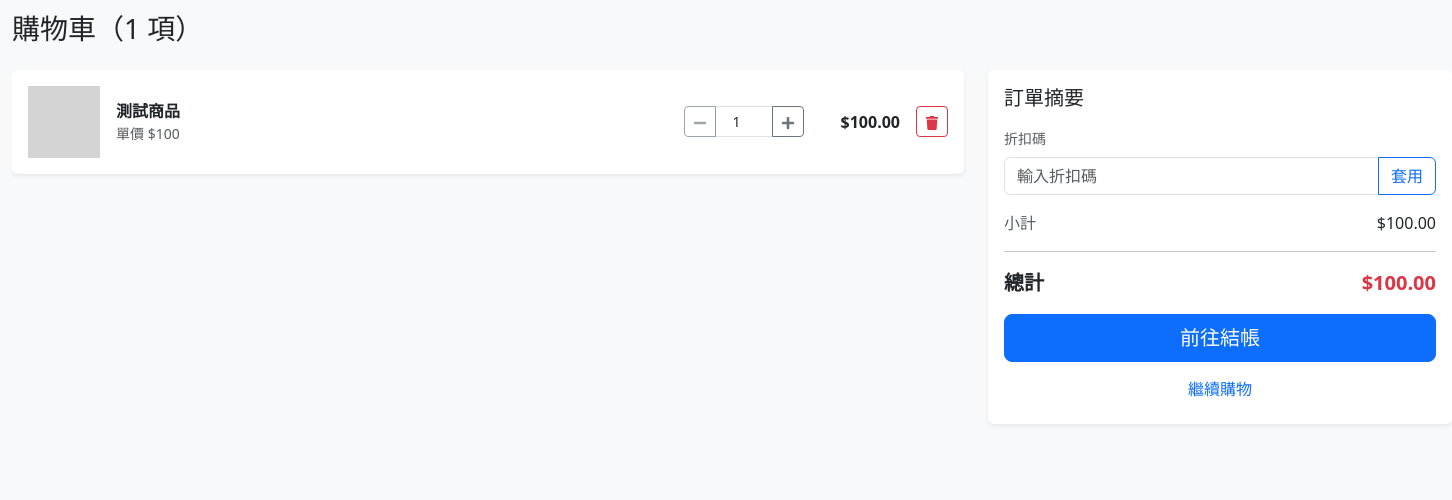
it: CartPage 整合測試 › 套用 WELCOME2026 → 顯示折扣金額
Type "WELCOME2026" into the field with placeholder "輸入折扣碼" at (1192, 176), box x1=1004 y1=157 x2=1379 y2=195
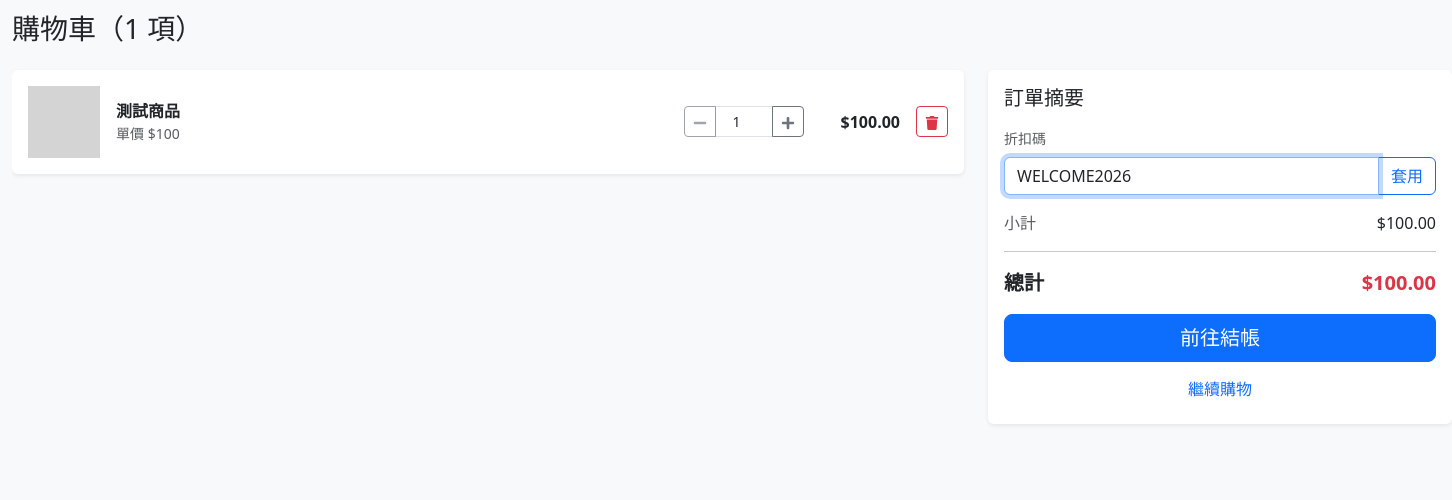
Click the button "套用" at (1407, 176), box x1=1378 y1=157 x2=1436 y2=195
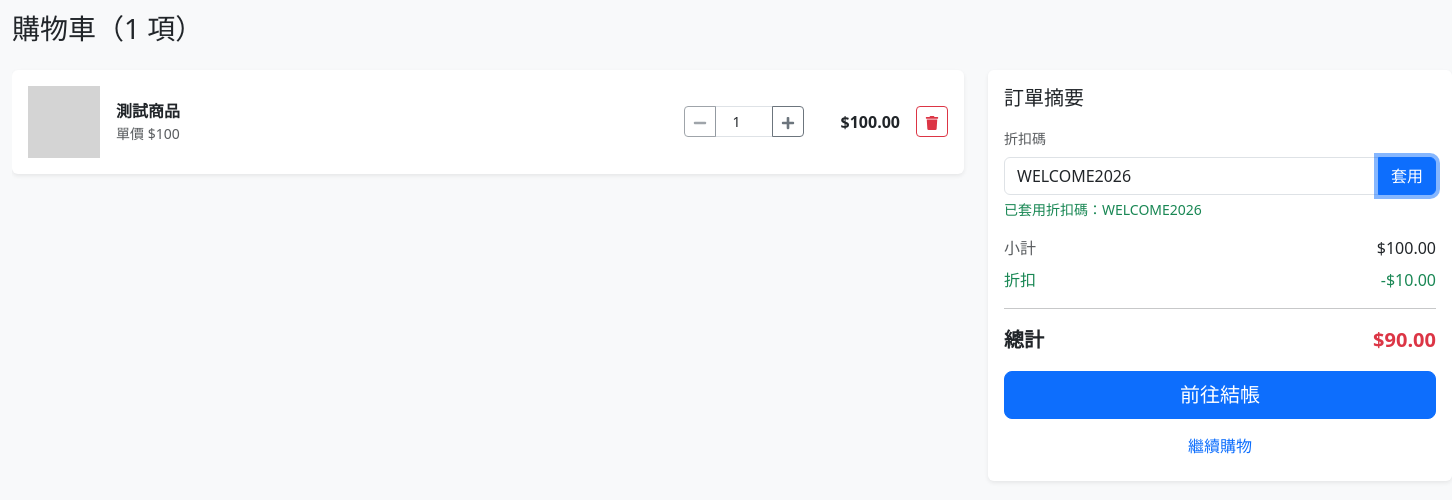
Expected: the text "-$10.00" is shown, x1=1381 y1=268 x2=1436 y2=292
